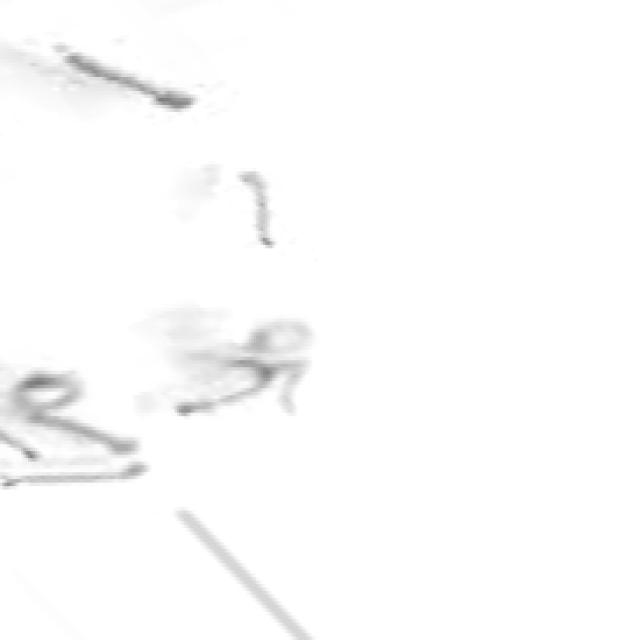larvas: (59, 42, 195, 118), (174, 359, 270, 416), (39, 414, 144, 455), (0, 463, 146, 488), (238, 170, 274, 246), (22, 372, 80, 413), (274, 362, 312, 418), (252, 322, 304, 352), (3, 428, 35, 464)
